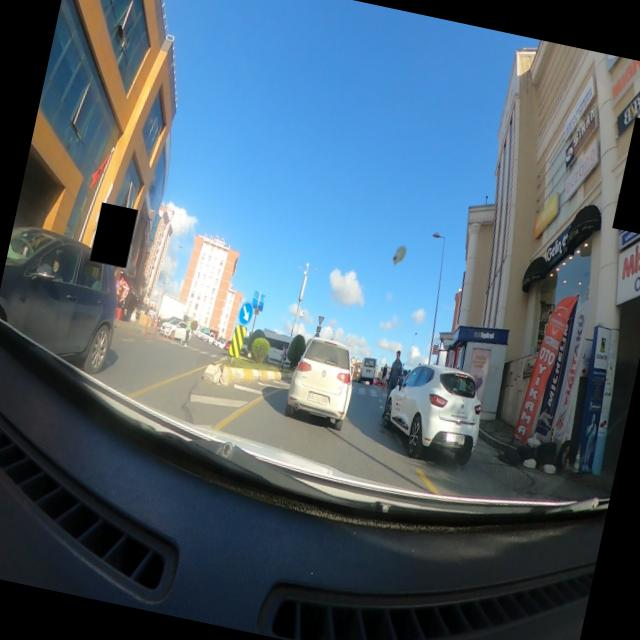SignStore: (95, 203, 130, 268), (617, 181, 640, 230)
